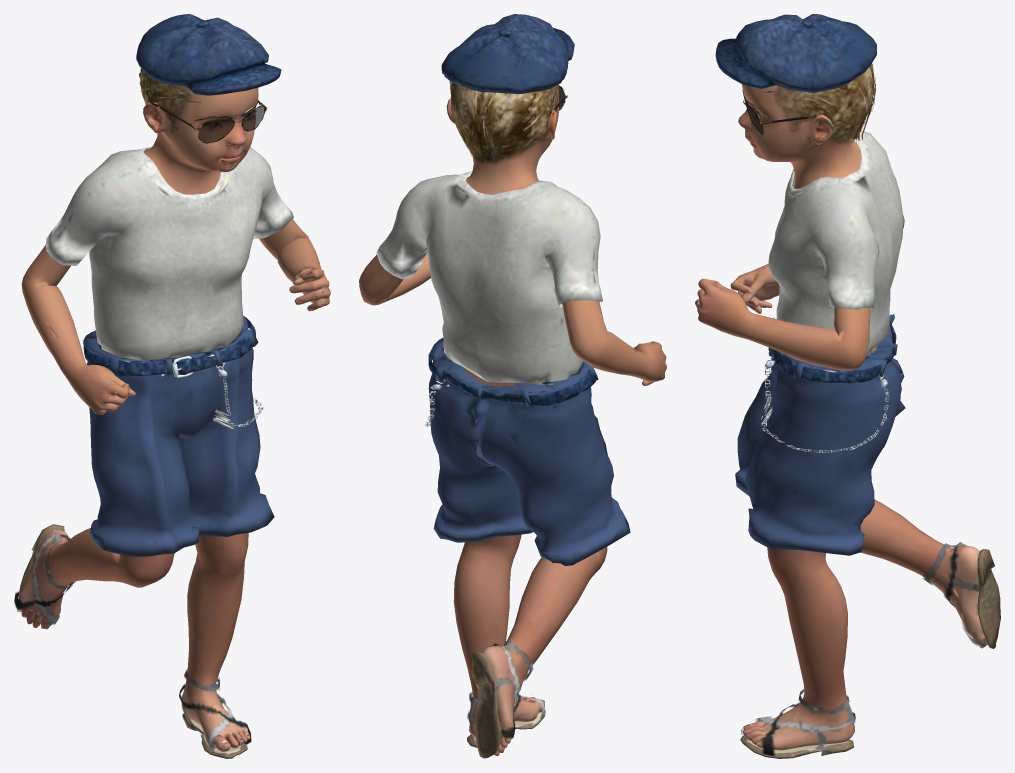
3 views of the same model, side by side, from view 1: azimuth 30°, elevation 25°; view 2: azimuth 150°, elevation 25°; view 3: azimuth 270°, elevation 25° (orthographic). The views are drawn at different scales.
Parts seen in each view (by area): view 1: p02378; view 2: p02378; view 3: p02378.
Part boxes in pixels (<box>): p02378: <box>14,14,330,758</box>; p02378: <box>359,14,666,758</box>; p02378: <box>695,14,1000,758</box>.
Bounding box in the file's own units: 0.4079 × 1.03 × 0.3925.
Materials: 1 (1 with a texture image).
